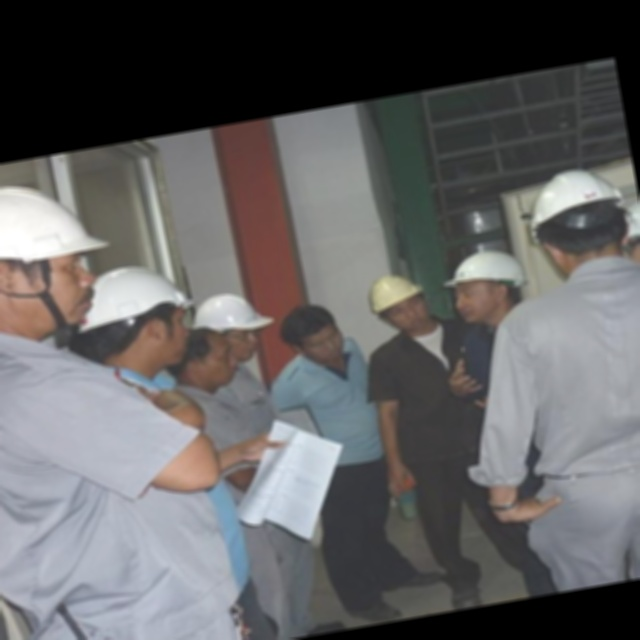Con_Casco: (0, 173, 119, 346), (367, 265, 436, 337)
Sin_Casco_Mascarrilla: (280, 300, 349, 367)
Sin_Chaleco: (501, 266, 640, 474)
